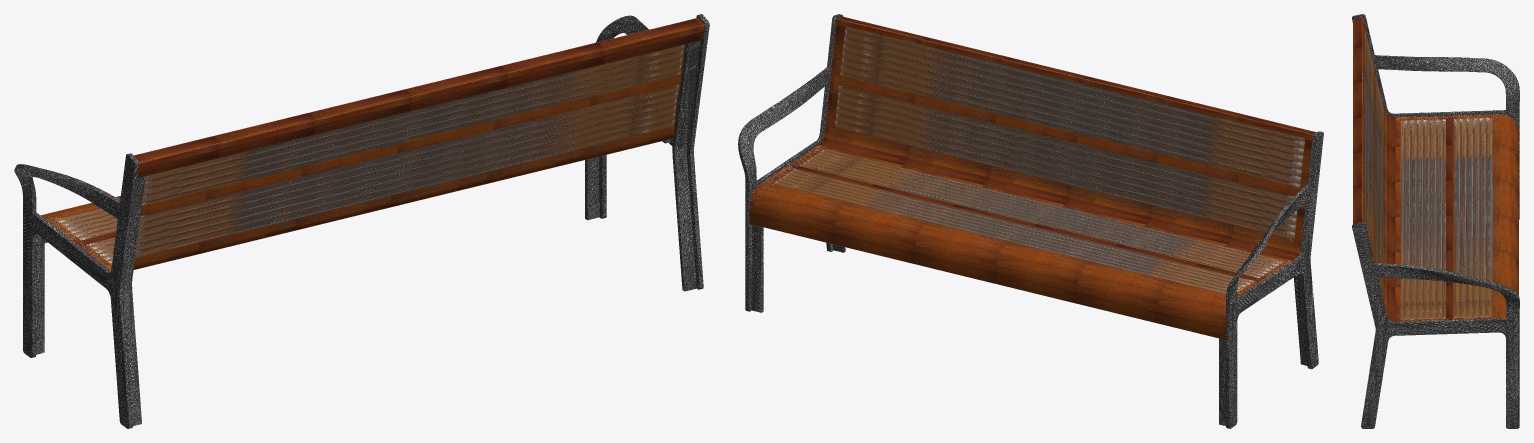
3 renders of one model, left to right at view 1: azimuth 30°, elevation 25°; view 2: azimuth 150°, elevation 25°; view 3: azimuth 270°, elevation 25°, orthographic. The views are drawn at different scales.
Parts seen in each view (by area): view 1: mesh1_mesh1-geometry, mesh4_mesh4-geometry, mesh3_mesh3-geometry; view 2: mesh1_mesh1-geometry, mesh4_mesh4-geometry, mesh3_mesh3-geometry; view 3: mesh1_mesh1-geometry, mesh3_mesh3-geometry, mesh4_mesh4-geometry.
Boxes of the visible parts, x1=… form: mesh1_mesh1-geometry: x1=40, y1=17, x2=704, y2=271; mesh4_mesh4-geometry: x1=14, y1=153, x2=145, y2=428; mesh3_mesh3-geometry: x1=585, y1=14, x2=709, y2=291; mesh1_mesh1-geometry: x1=749, y1=16, x2=1315, y2=339; mesh4_mesh4-geometry: x1=1219, y1=131, x2=1323, y2=428; mesh3_mesh3-geometry: x1=738, y1=14, x2=845, y2=312; mesh1_mesh1-geometry: x1=1353, y1=17, x2=1518, y2=321; mesh3_mesh3-geometry: x1=1352, y1=222, x2=1519, y2=428; mesh4_mesh4-geometry: x1=1352, y1=14, x2=1519, y2=219.
Size of the model in its own units: 0.8828 by 0.3775 by 0.2796.
